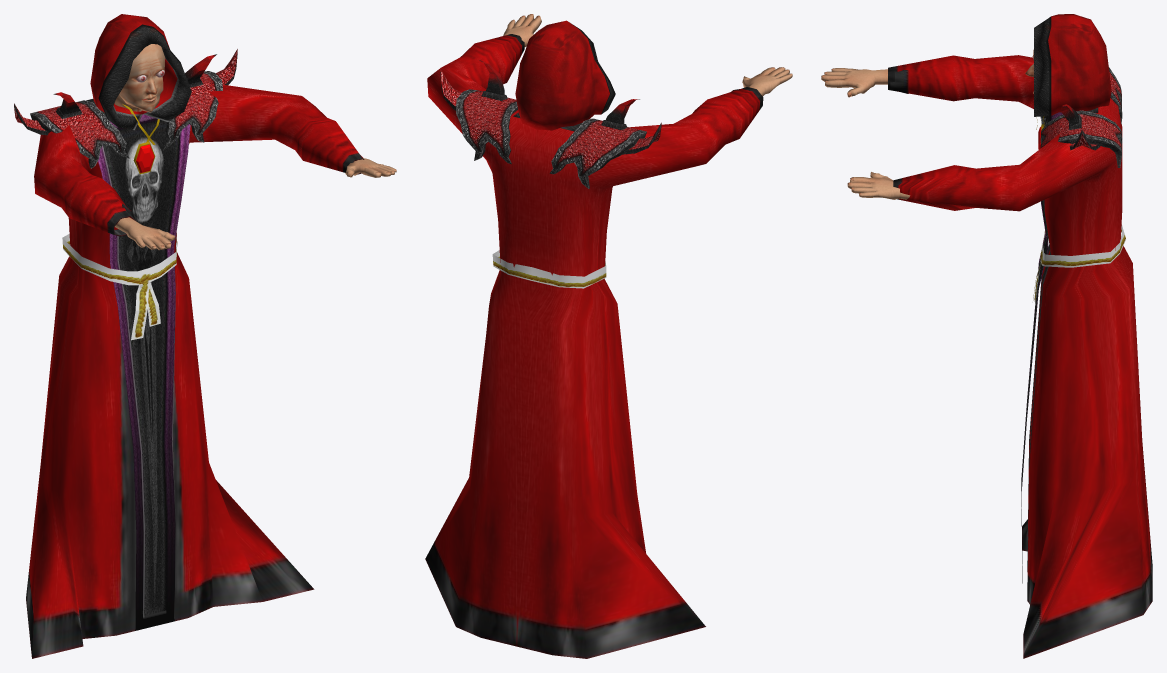
File: Wizard.FBX
3 renders of one model, left to right at view 1: azimuth 30°, elevation 25°; view 2: azimuth 150°, elevation 25°; view 3: azimuth 270°, elevation 25°, orthographic. The views are drawn at different scales.
Parts seen in each view (by area): view 1: Coif01; view 2: Coif01; view 3: Coif01.
Part boxes in pixels (bbox=[...]): Coif01: bbox=[14, 14, 396, 658]; Coif01: bbox=[425, 14, 792, 658]; Coif01: bbox=[821, 14, 1152, 658].
Bounding box in the file's own units: 113 × 226 × 119.
Materials: 9 (7 with a texture image).
